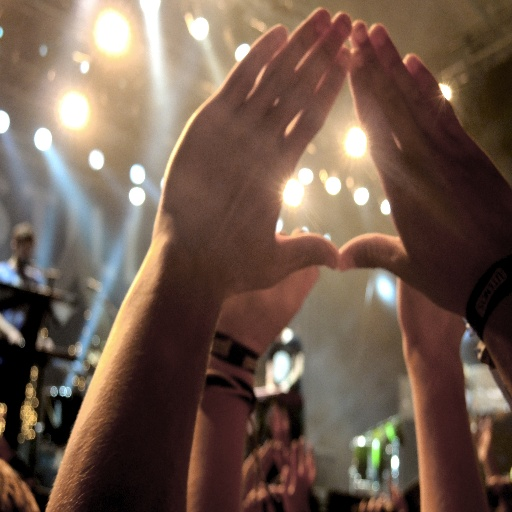hand: (152, 7, 353, 300), (358, 33, 505, 333), (217, 228, 318, 354), (397, 275, 466, 347), (283, 439, 316, 511), (358, 486, 404, 511)
